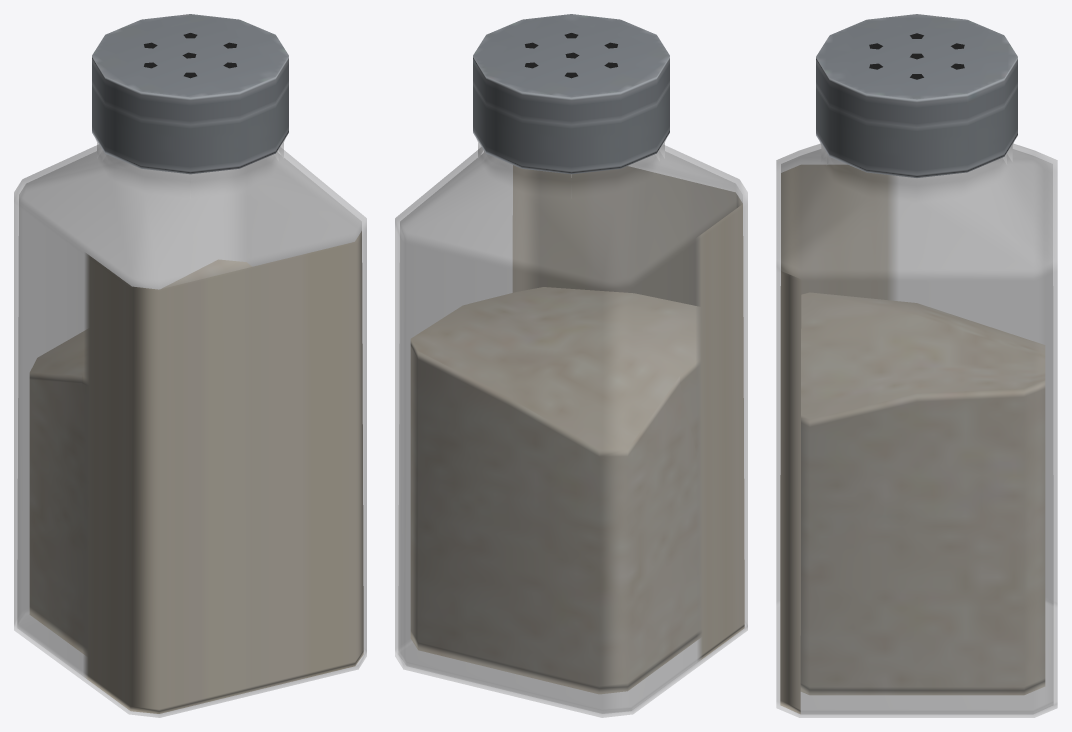
Rendered from pi_spice03.gltf.
3 views of the same model, side by side, from view 1: azimuth 30°, elevation 25°; view 2: azimuth 150°, elevation 25°; view 3: azimuth 270°, elevation 25° (orthographic). The views are drawn at different scales.
Visible parts, largest first — view 1: pi_spice03_02_shape:pi_spice03_body01_tra, pi_spice03_05_shape:pi_spice03_body01_tra, pi_spice03_01_shape:pi_spice03_body01, pi_spice03_03_shape:pi_spice03_body01; view 2: pi_spice03_02_shape:pi_spice03_body01_tra, pi_spice03_05_shape:pi_spice03_body01_tra, pi_spice03_03_shape:pi_spice03_body01, pi_spice03_01_shape:pi_spice03_body01; view 3: pi_spice03_02_shape:pi_spice03_body01_tra, pi_spice03_05_shape:pi_spice03_body01_tra, pi_spice03_03_shape:pi_spice03_body01, pi_spice03_01_shape:pi_spice03_body01, pi_spice03_04_shape:pi_spice03_body01.
Part boxes in pixels (x1,y1,x2,y2): pi_spice03_02_shape:pi_spice03_body01_tra: (14, 140, 366, 717); pi_spice03_05_shape:pi_spice03_body01_tra: (17, 150, 363, 713); pi_spice03_01_shape:pi_spice03_body01: (92, 14, 288, 174); pi_spice03_03_shape:pi_spice03_body01: (29, 259, 251, 655); pi_spice03_02_shape:pi_spice03_body01_tra: (395, 140, 747, 717); pi_spice03_05_shape:pi_spice03_body01_tra: (398, 150, 744, 713); pi_spice03_03_shape:pi_spice03_body01: (410, 287, 700, 694); pi_spice03_01_shape:pi_spice03_body01: (473, 14, 669, 174); pi_spice03_02_shape:pi_spice03_body01_tra: (776, 143, 1057, 717); pi_spice03_05_shape:pi_spice03_body01_tra: (780, 149, 1053, 714); pi_spice03_03_shape:pi_spice03_body01: (800, 292, 1045, 695); pi_spice03_01_shape:pi_spice03_body01: (816, 14, 1017, 177); pi_spice03_04_shape:pi_spice03_body01: (869, 33, 964, 79).
Bounding box in the file's own units: 0.0411 × 0.097 × 0.0411.
Materials: 2 (2 with a texture image).
